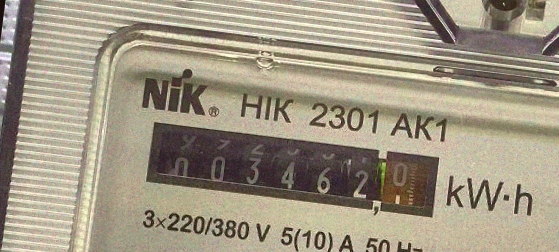0: (207, 151, 228, 182), (389, 159, 410, 189), (169, 153, 191, 178)
2: (350, 166, 372, 200)
3: (242, 154, 263, 188)
4: (278, 157, 299, 191)
6: (312, 162, 336, 198)
9: (175, 131, 198, 152)
screen: (131, 108, 452, 237)
